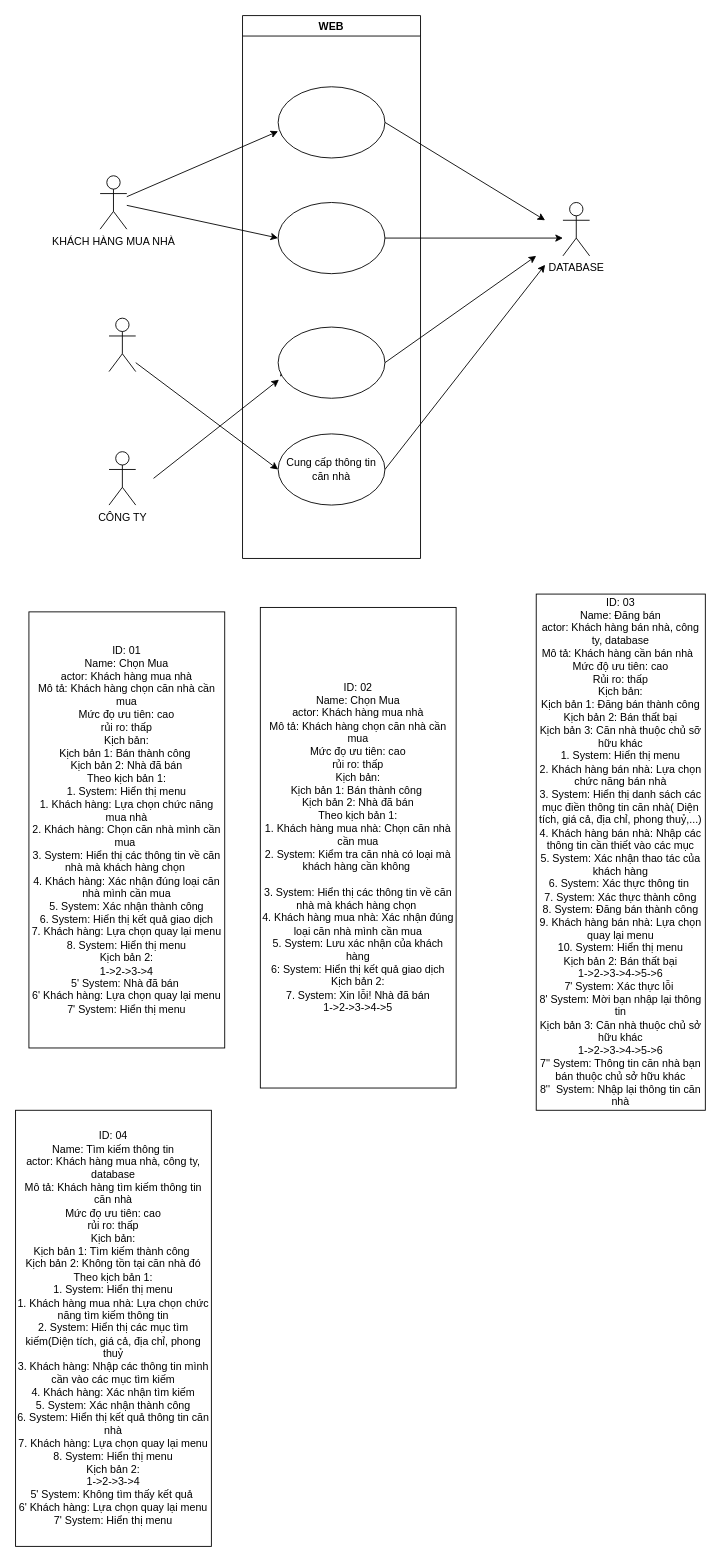
Image size: 721x1562. Some labels were removed from this diagram. Each missing label, with the centre of its shape:
Chọn mua: the point at 331,122
KHÁCH HÀNG BÁN NHÀ: the point at 122,344
Tìm kiếm thông tin: the point at 331,238
Đăng bán: the point at 331,362
